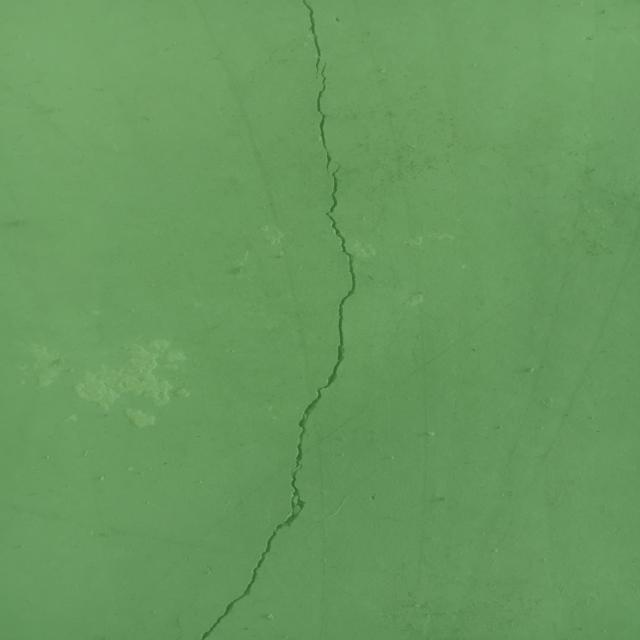crack: (200, 161, 357, 640), (302, 0, 331, 171)
